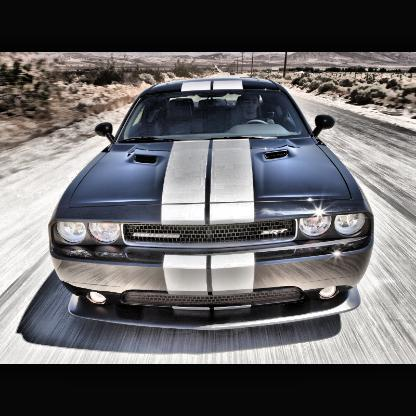Dodge Challenger SRT8 2011: (49, 76, 376, 332)
